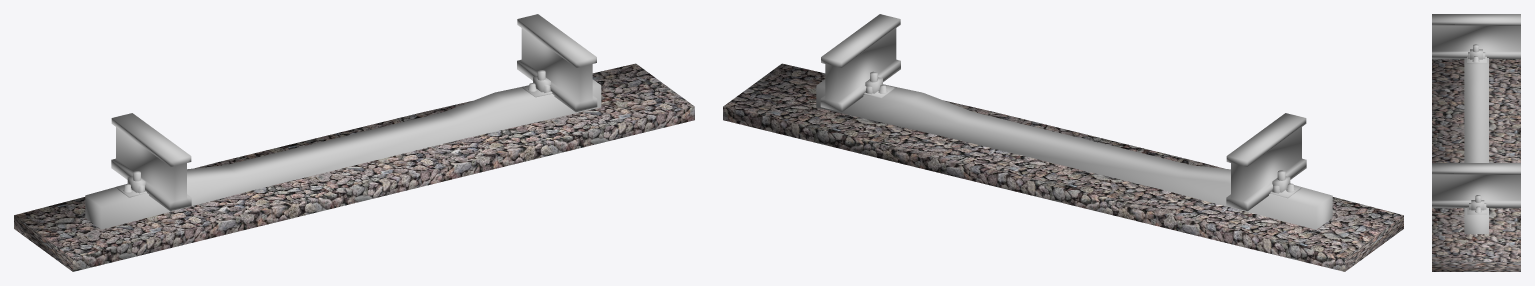
File: track_straigh2_wood.fbx
The picture shows the model from 3 angles, left to right: view 1: azimuth 30°, elevation 25°; view 2: azimuth 150°, elevation 25°; view 3: azimuth 270°, elevation 25°; orthographic projection. The views are drawn at different scales.
Parts seen in each view (by area): view 1: ground, wood, rails; view 2: ground, wood, rails; view 3: ground, rails, wood.
Part boxes in pixels (x1,y1,x2,y2): ground: (14,63,694,271); wood: (85,79,601,229); rails: (111,14,597,211); ground: (723,63,1403,271); wood: (816,79,1332,229); rails: (820,14,1306,211); ground: (1432,59,1520,271); rails: (1432,14,1520,214); wood: (1464,58,1488,234).
Size of the model in its own units: 2.85 by 0.381 by 0.4678.
